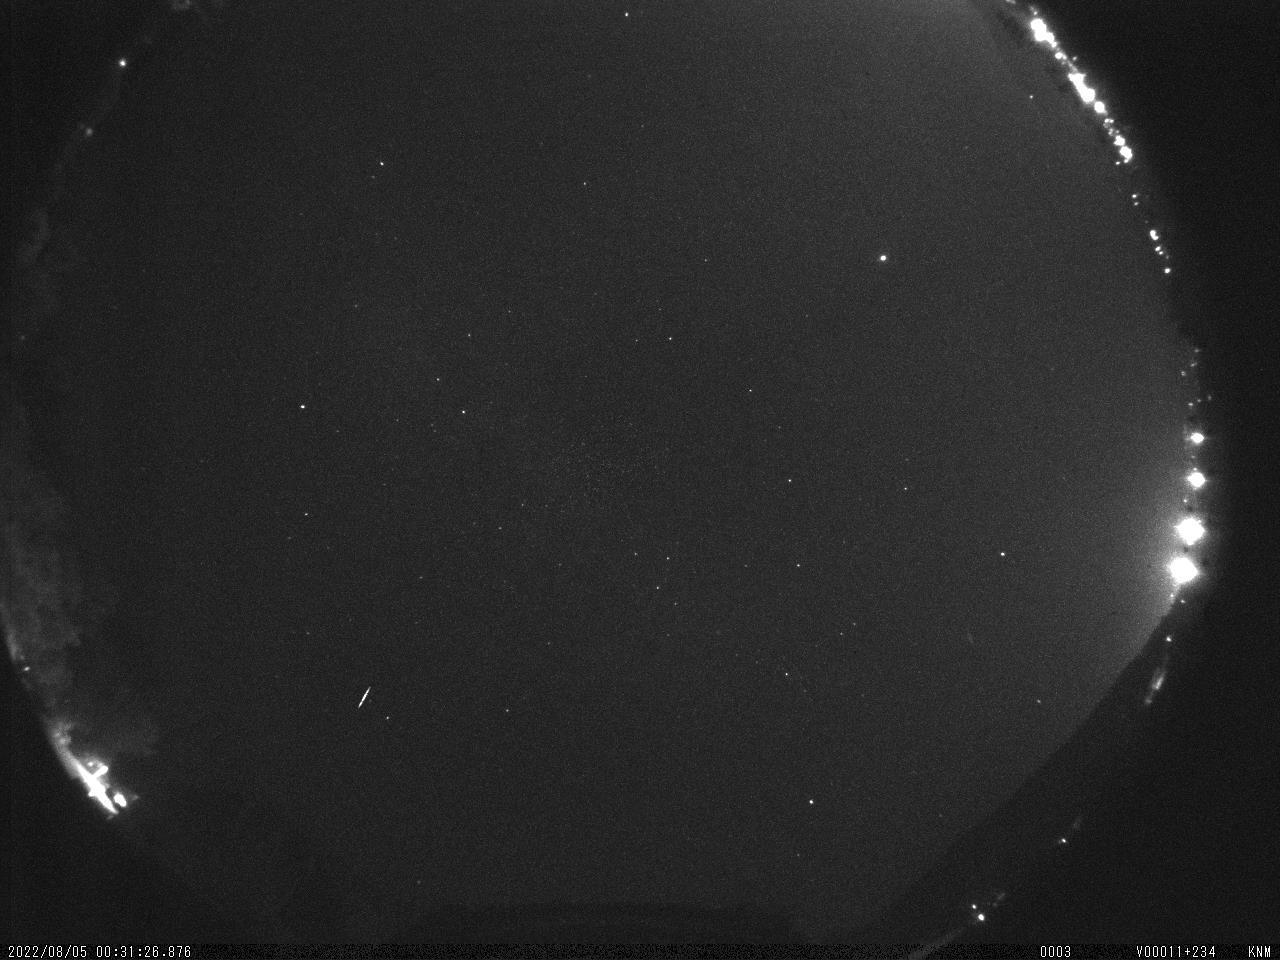Meteor: (356, 682, 375, 711)
